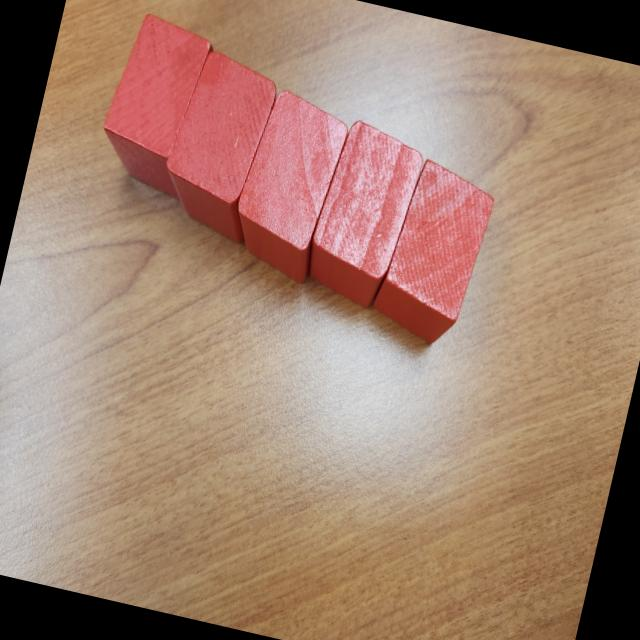red: (365, 152, 501, 352), (222, 84, 354, 288), (297, 113, 430, 314), (150, 46, 282, 246), (91, 10, 218, 200)
